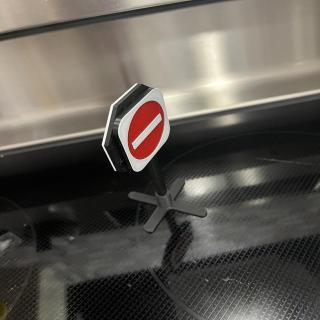sign_noentry: (115, 90, 171, 174)
